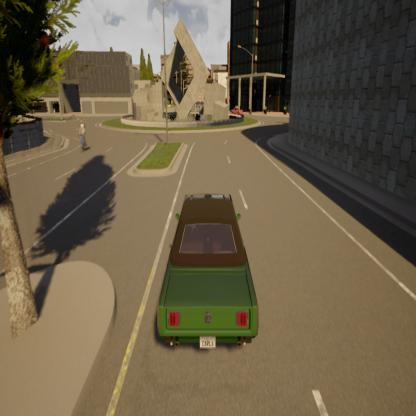Cars: (151, 188, 265, 360), (228, 102, 246, 118)
